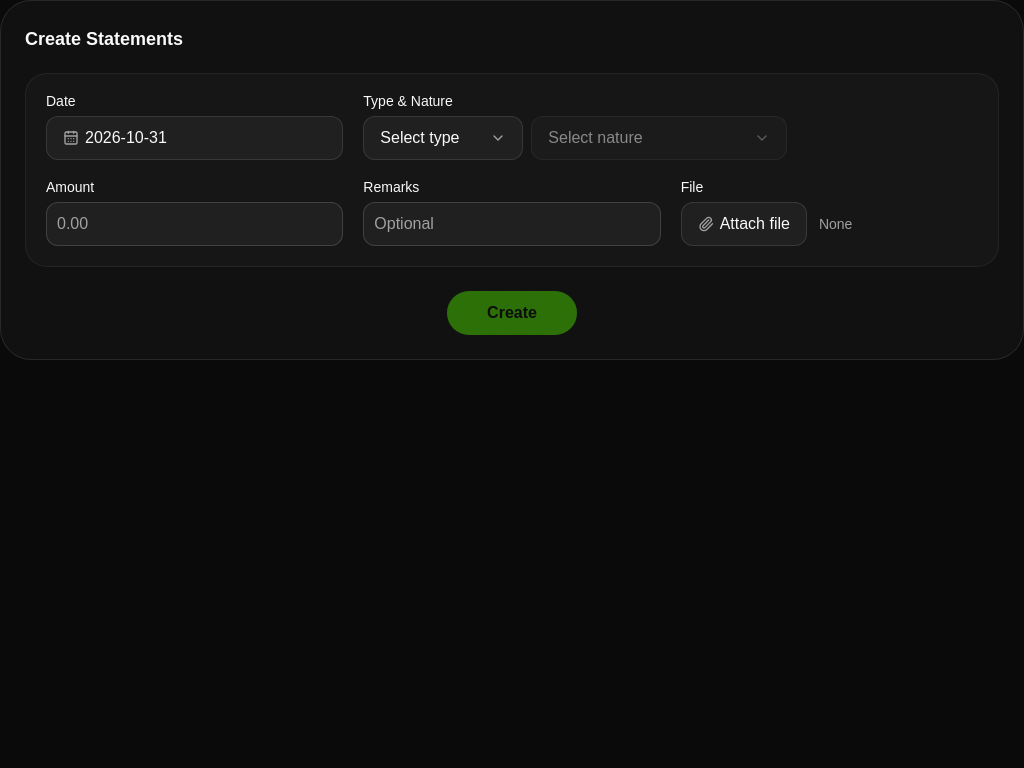
it: CreateStatementForm › clears the chosen nature when the type changes
Click the button "Select type": (443, 138) top-left (363, 116), bottom-right (523, 160)
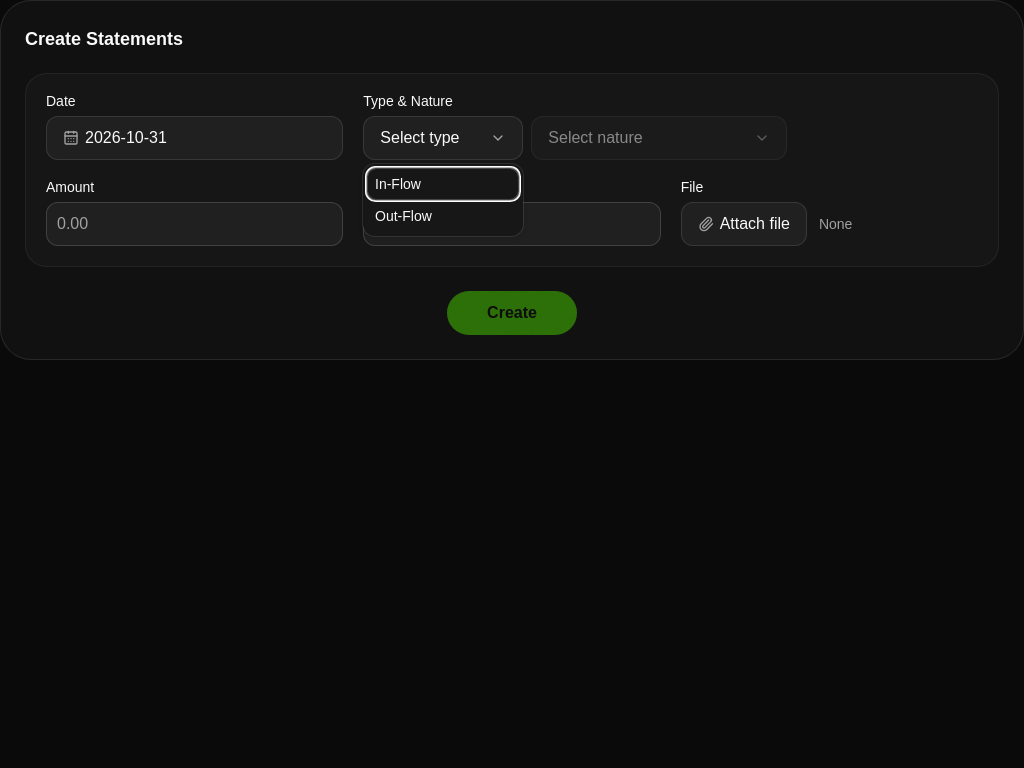
Click the option "In-Flow": (443, 184) top-left (367, 168), bottom-right (519, 200)
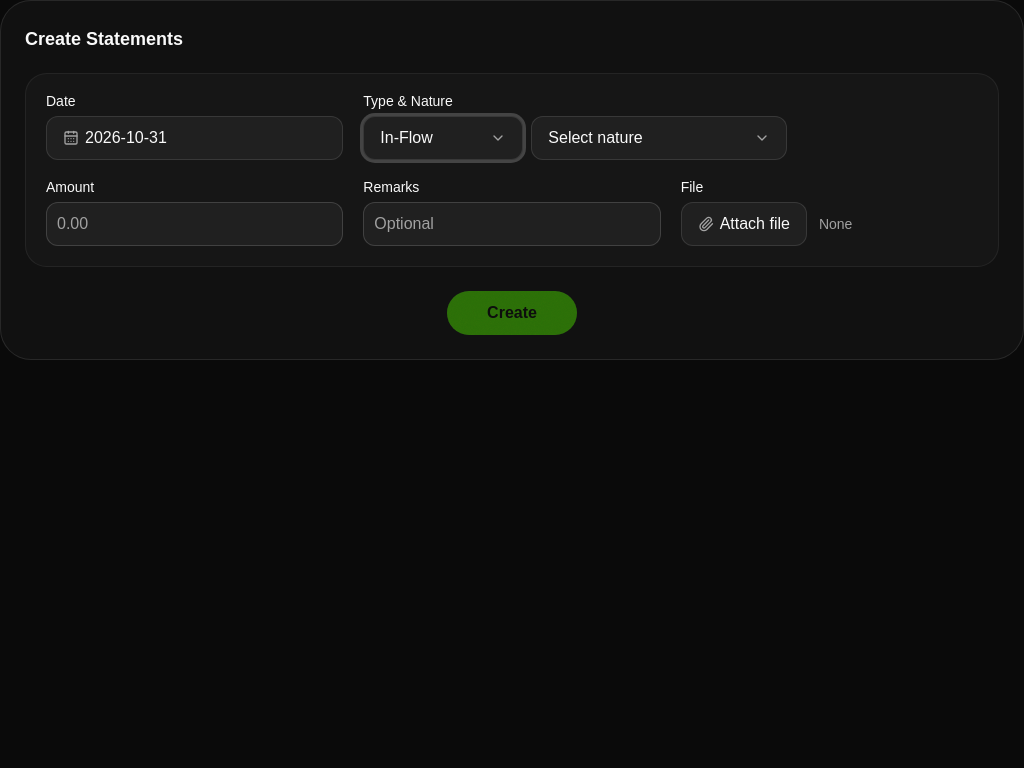
Click the button "Select nature": (659, 138) top-left (531, 116), bottom-right (787, 160)
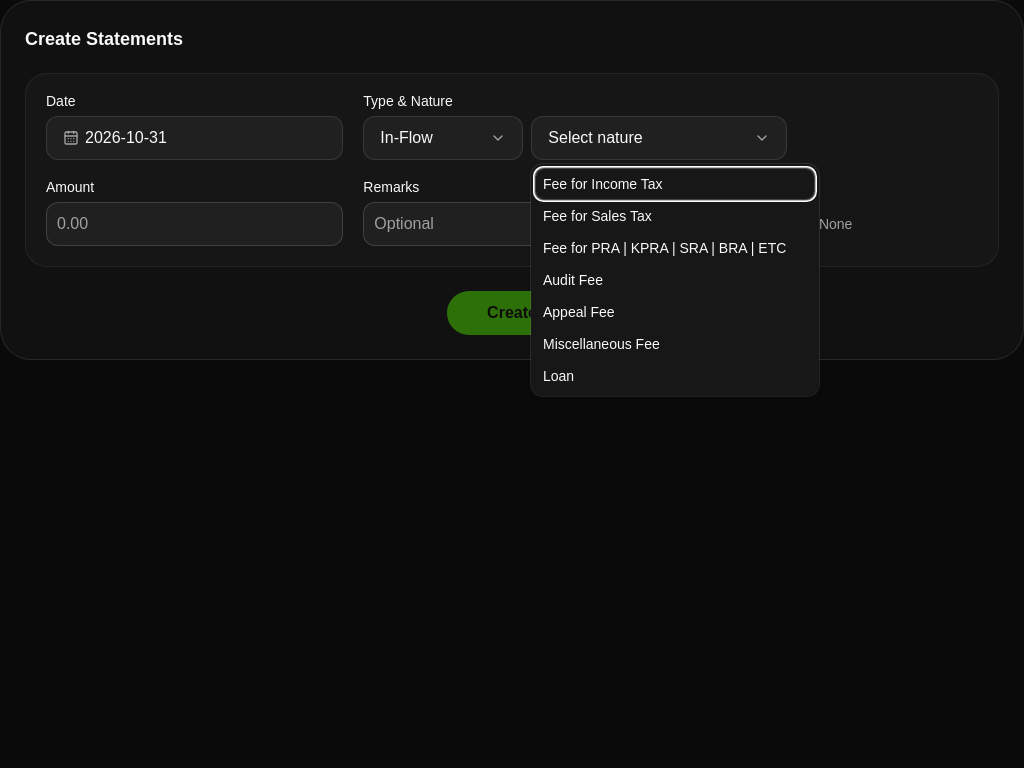
Click the option "Audit Fee": (573, 280) top-left (535, 264), bottom-right (815, 296)
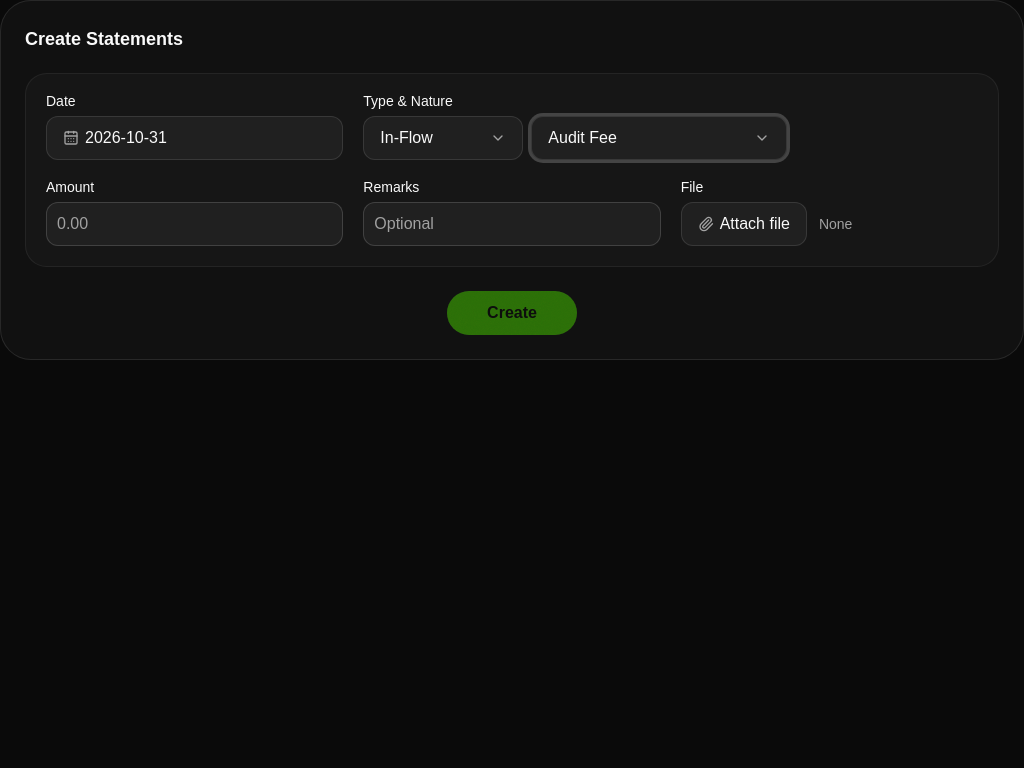
Check: the button with aria-label "Nature" reads "Audit Fee", box top-left (531, 116), bottom-right (787, 160)
Click the button with aria-label "Type": (443, 138) top-left (363, 116), bottom-right (523, 160)
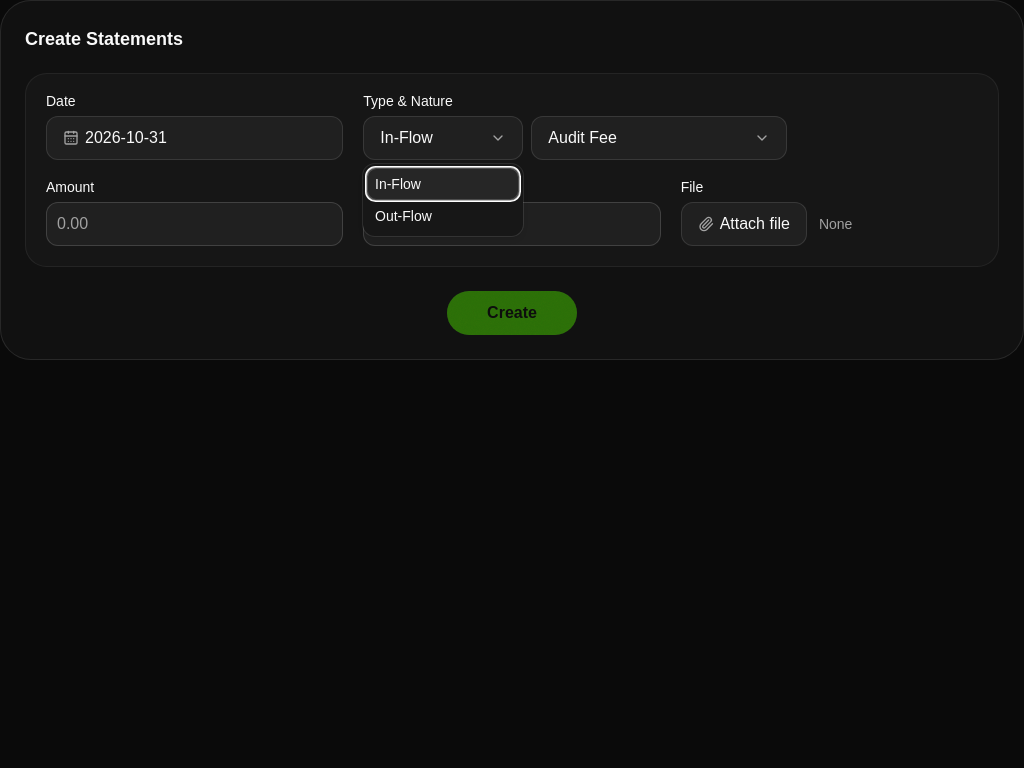
Click the option "Out-Flow": (443, 216) top-left (367, 200), bottom-right (519, 232)
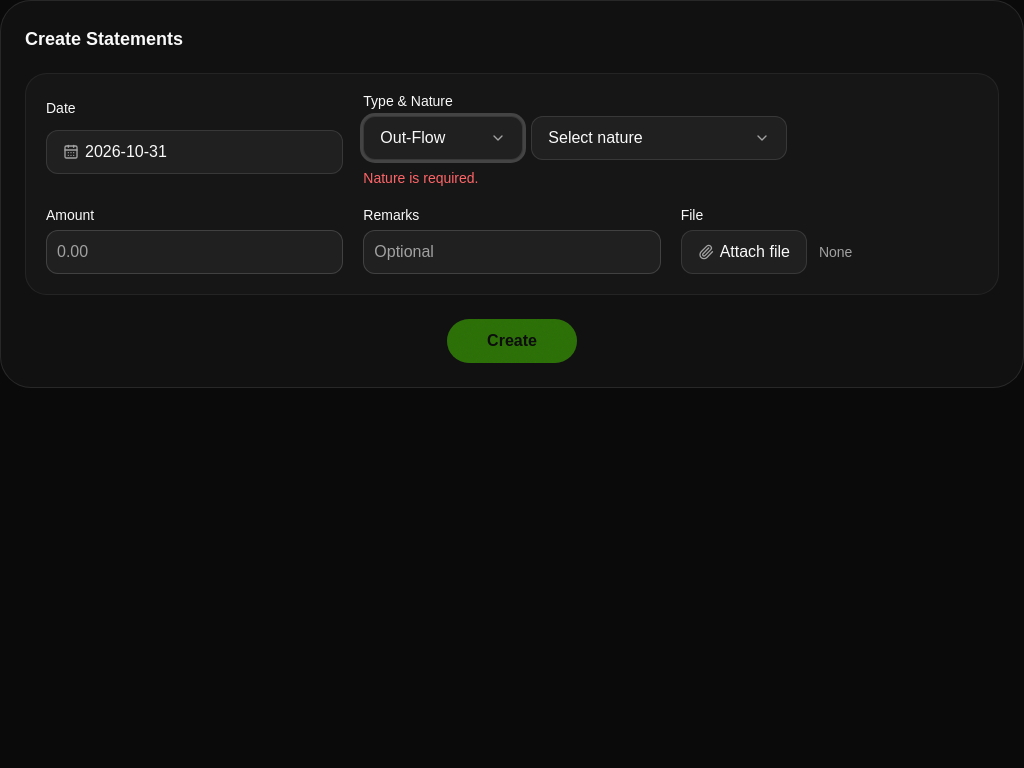
Check: the button "Select nature" is shown, box top-left (531, 116), bottom-right (787, 160)
